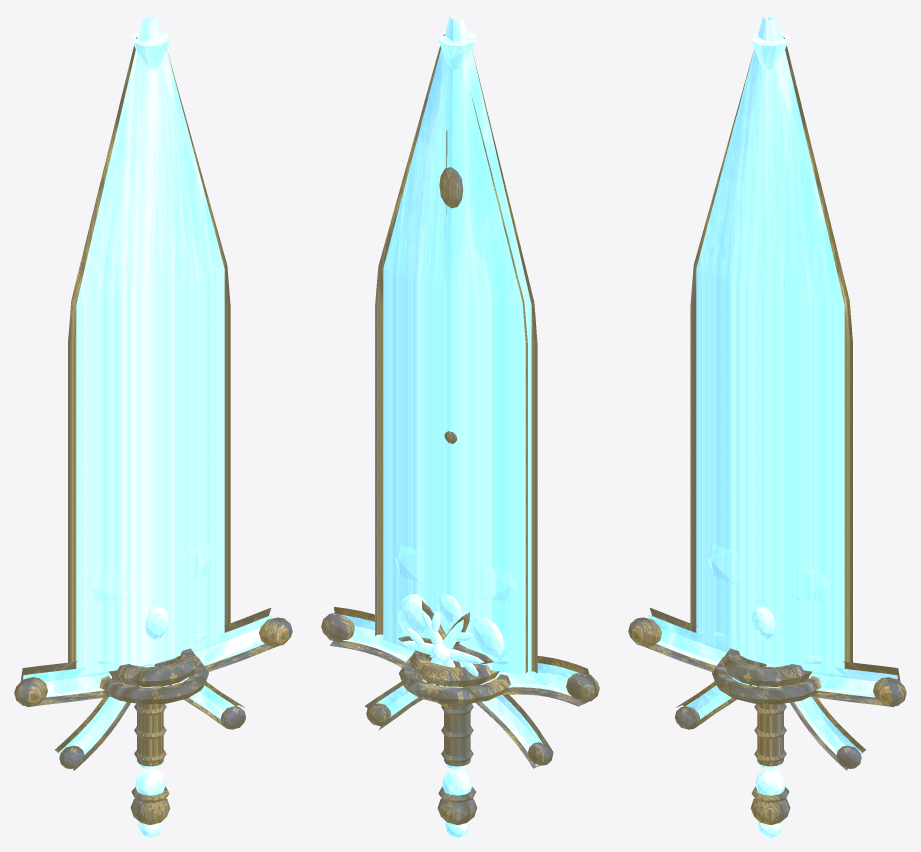
Rendered from frost_blade.glb.
3 views of the same model, side by side, from view 1: azimuth 30°, elevation 25°; view 2: azimuth 150°, elevation 25°; view 3: azimuth 330°, elevation 25° (orthographic).
Parts seen in each view (by area): view 1: glow, metal; view 2: glow, metal; view 3: glow, metal.
Boxes of the visible parts, <box> form: glow: <box>23,15,272,837</box>; metal: <box>14,37,292,824</box>; glow: <box>333,16,585,837</box>; metal: <box>321,34,599,825</box>; glow: <box>648,15,897,837</box>; metal: <box>628,37,906,824</box>.
Size of the model in its own units: 0.418 by 1.18 by 0.1501.
Materials: 2 (2 with a texture image).
